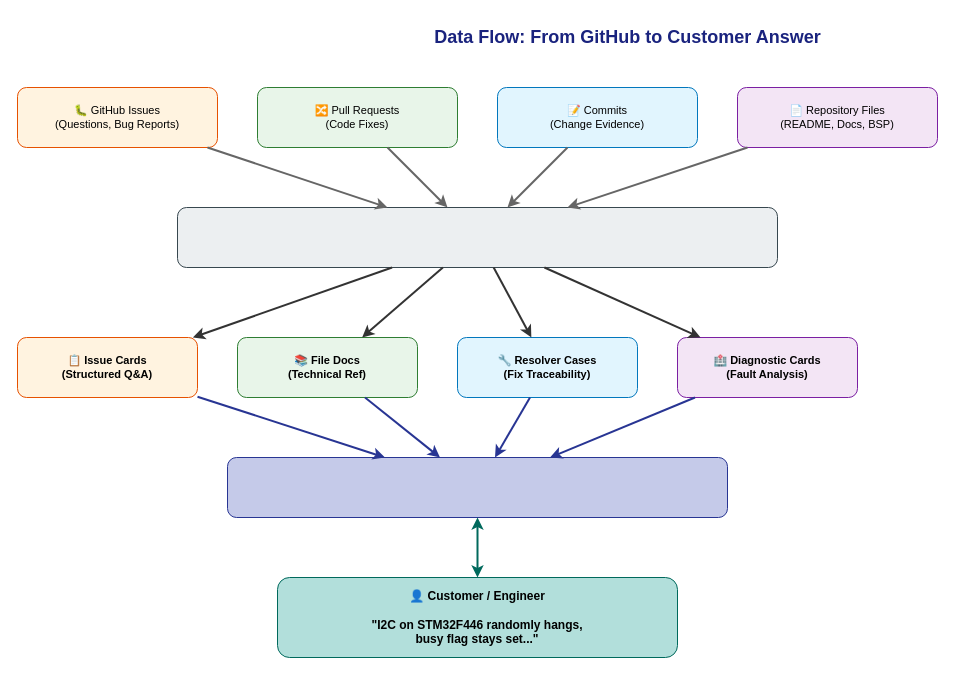
The diagram is 955 pixels wide and 675 high, and some of its shapes have lost their labels. Here are the shapes that lost their labels. From the top down, the centre of each, then its label:
At pixel 477 237: "PREPROCESSING PIPELINE Clean → Enrich → Link → Chunk → Validate".
At pixel 477 487: "☁️ ST AI Bridge Knowledge Base (#793) Hybrid Search: Semantic + Full-Text".
